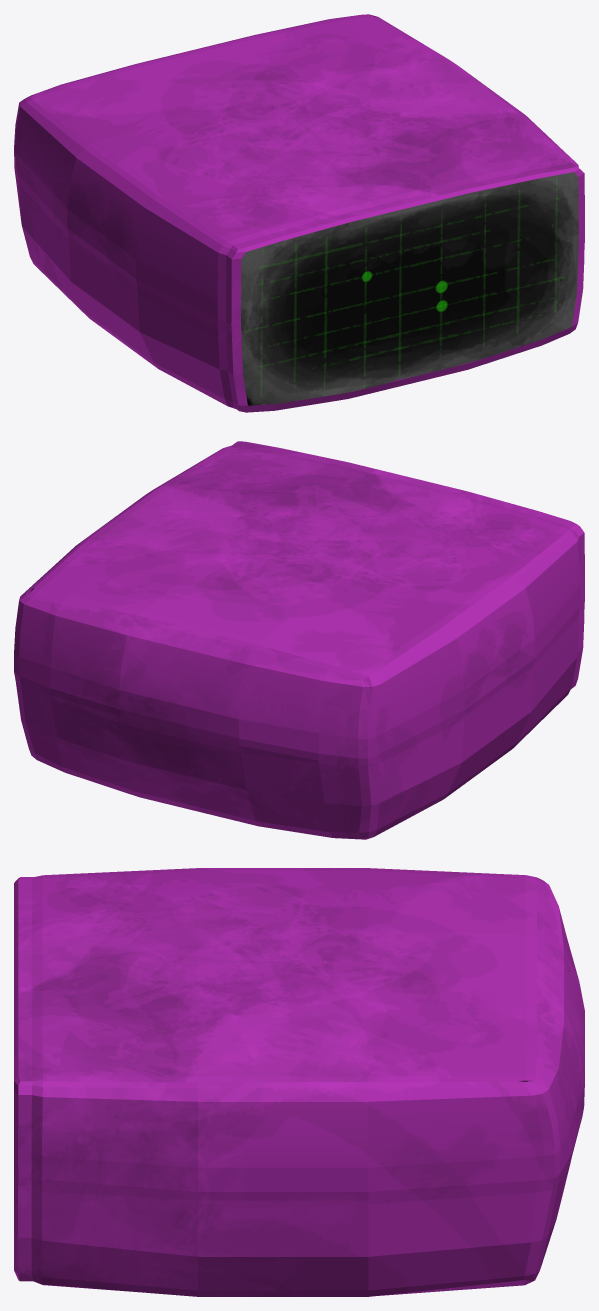
Rendered from tv_1_stories_mesh.fbx.
3 renders of one model, top to bottom at view 1: azimuth 30°, elevation 25°; view 2: azimuth 150°, elevation 25°; view 3: azimuth 270°, elevation 25°, orthographic. The views are drawn at different scales.
Visible parts, largest first — view 1: tv_lvl1; view 2: tv_lvl1; view 3: tv_lvl1.
Part boxes in pixels (left/top/right/bottom): tv_lvl1: left=14, top=14, right=584, bottom=412; tv_lvl1: left=14, top=441, right=584, bottom=839; tv_lvl1: left=14, top=868, right=584, bottom=1296.
Bounding box in the file's own units: 5.57 × 2.62 × 5.58.
